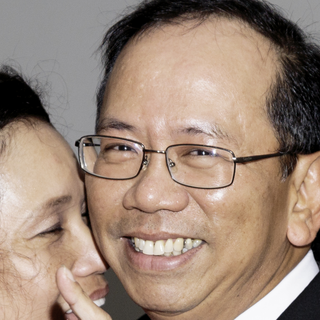eye: (180, 141, 223, 164), (96, 138, 140, 160)
